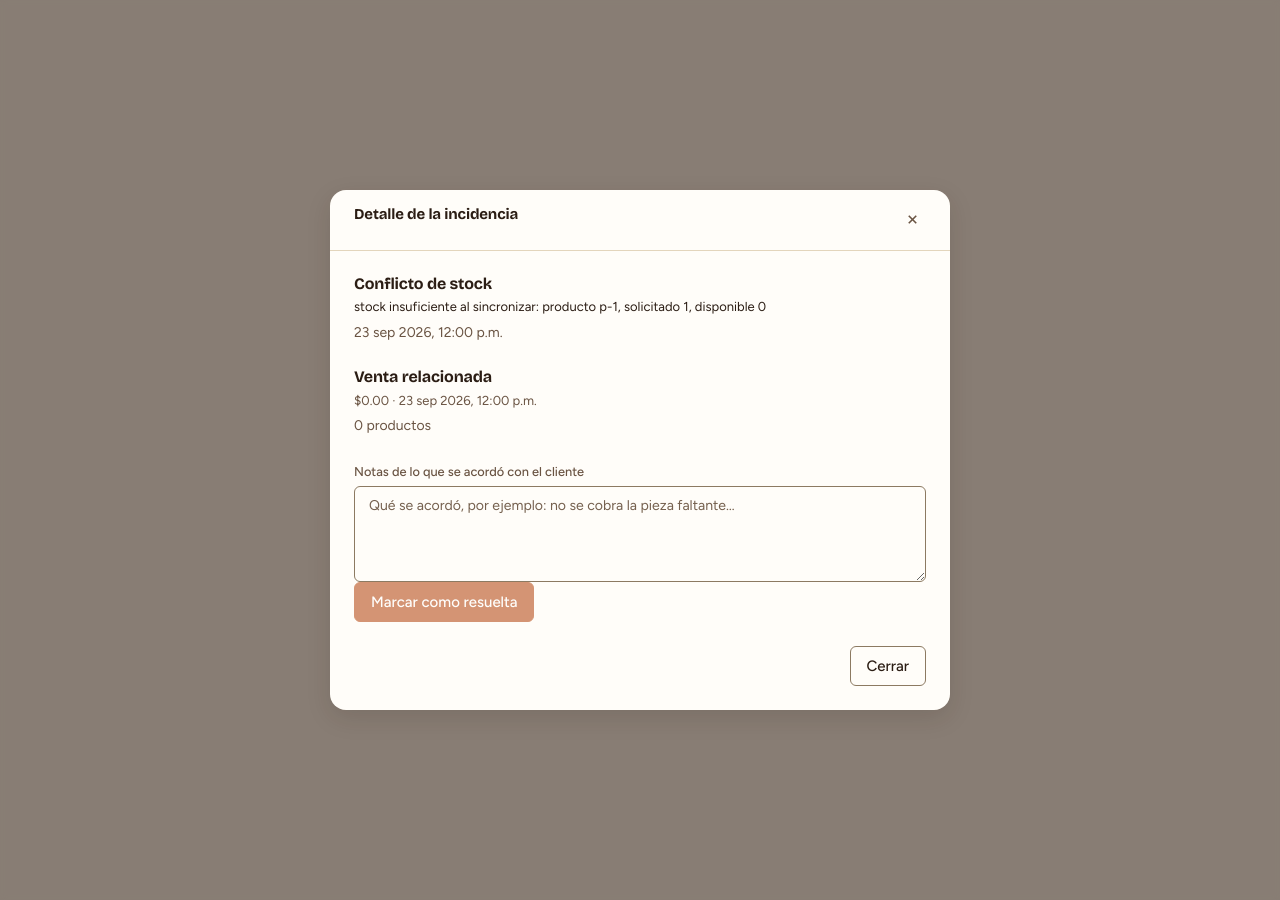
IncidenciaDetailModal — pendiente: formulario de resolver › un 409 (ya estaba resuelta) avisa y refleja el estado más reciente, sin culpar a la red
The width and height of the screenshot is (1280, 900).
Type "Mi intento de notas." into the text box labelled "Notas de lo que se acordó con el cliente" at (640, 534), box [354,486,926,582]
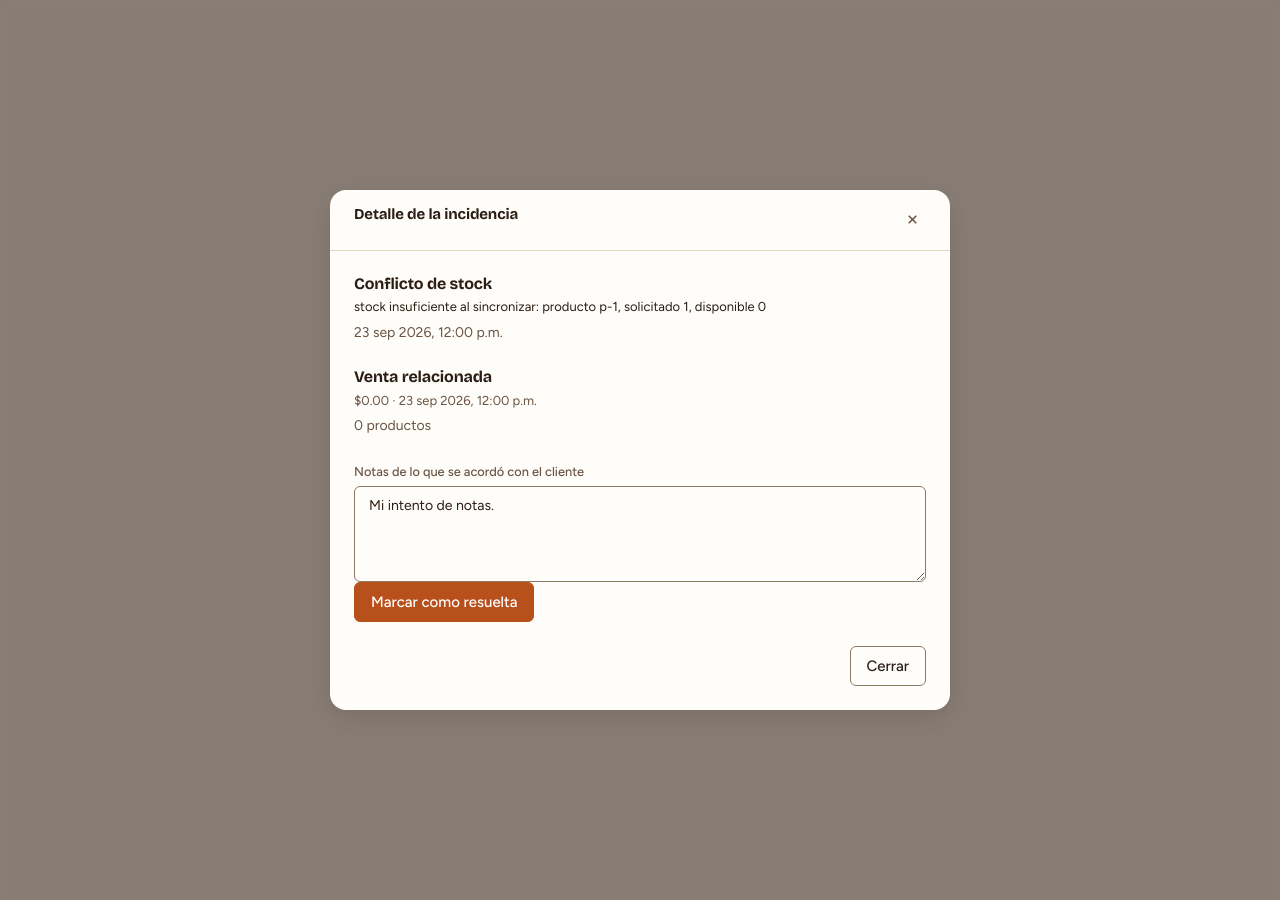
Click the button with class "incidencia-detail-modal__resolve" at (444, 602), box [354,582,534,622]
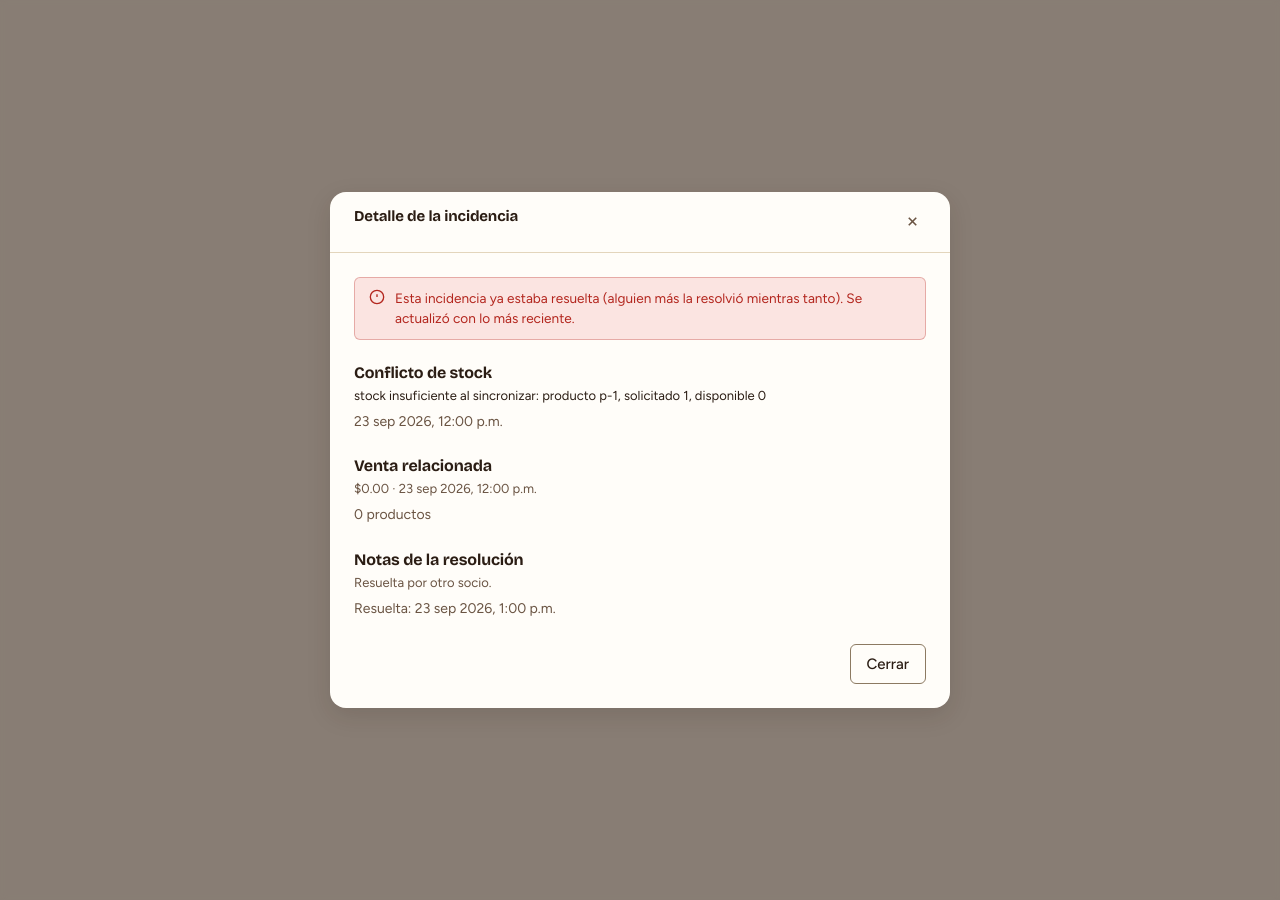
expect the text "ya estaba resuelta" is shown: met, box [395,290,862,326]
expect the text "Resuelta por otro socio." is shown: met, box [354,575,492,590]
